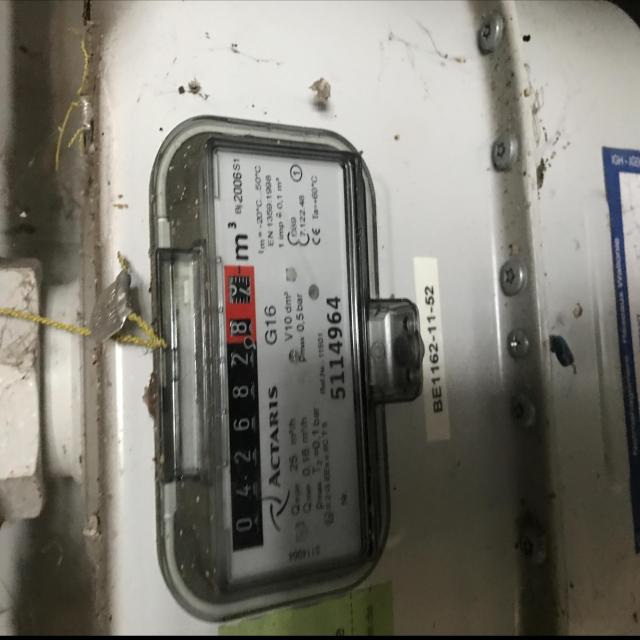gaz_meter: (214, 144, 368, 585)
indication: (221, 264, 264, 553)
